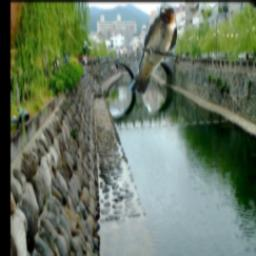Swallow: (129, 3, 178, 95)
